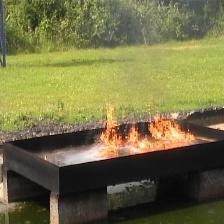fire: (88, 96, 201, 150)
